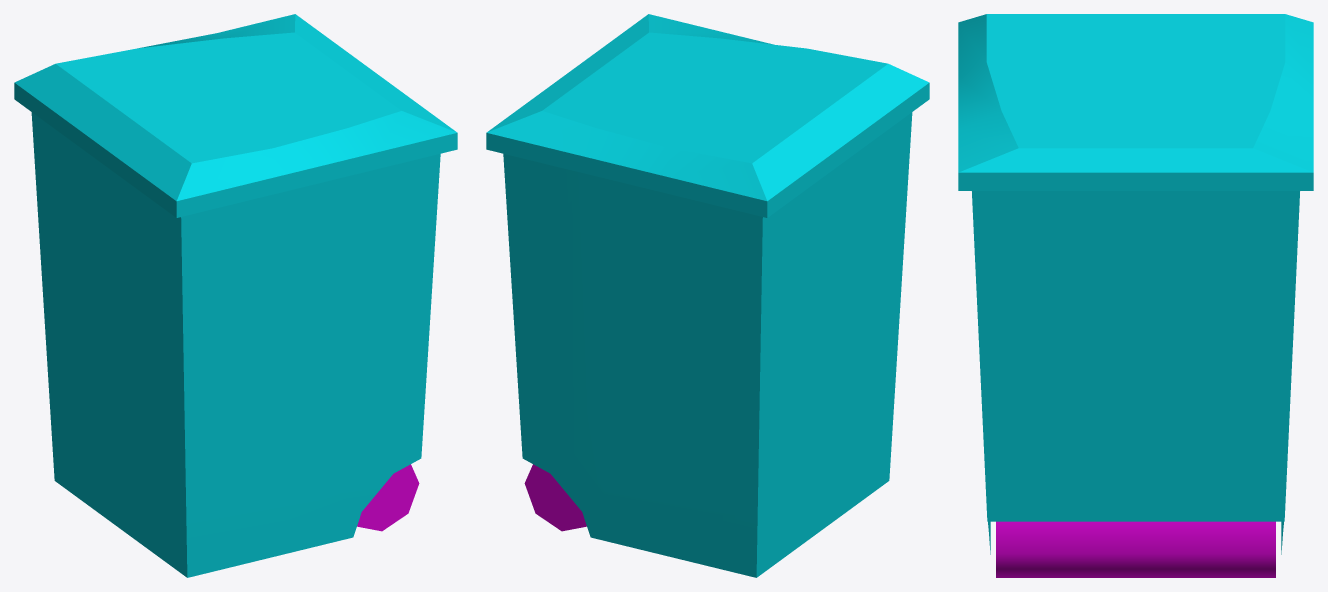
Rendered from Cassonetto_stretto.fbx.
3 views of the same model, side by side, from view 1: azimuth 30°, elevation 25°; view 2: azimuth 150°, elevation 25°; view 3: azimuth 270°, elevation 25° (orthographic). The views are drawn at different scales.
Parts seen in each view (by area): view 1: cassonetto_stretto; view 2: cassonetto_stretto; view 3: cassonetto_stretto.
Part boxes in pixels (left/top/right/bottom): cassonetto_stretto: left=14, top=14, right=457, bottom=577; cassonetto_stretto: left=486, top=14, right=929, bottom=577; cassonetto_stretto: left=958, top=14, right=1313, bottom=577.
Size of the model in its own units: 54.03 by 76.9 by 54.03.
